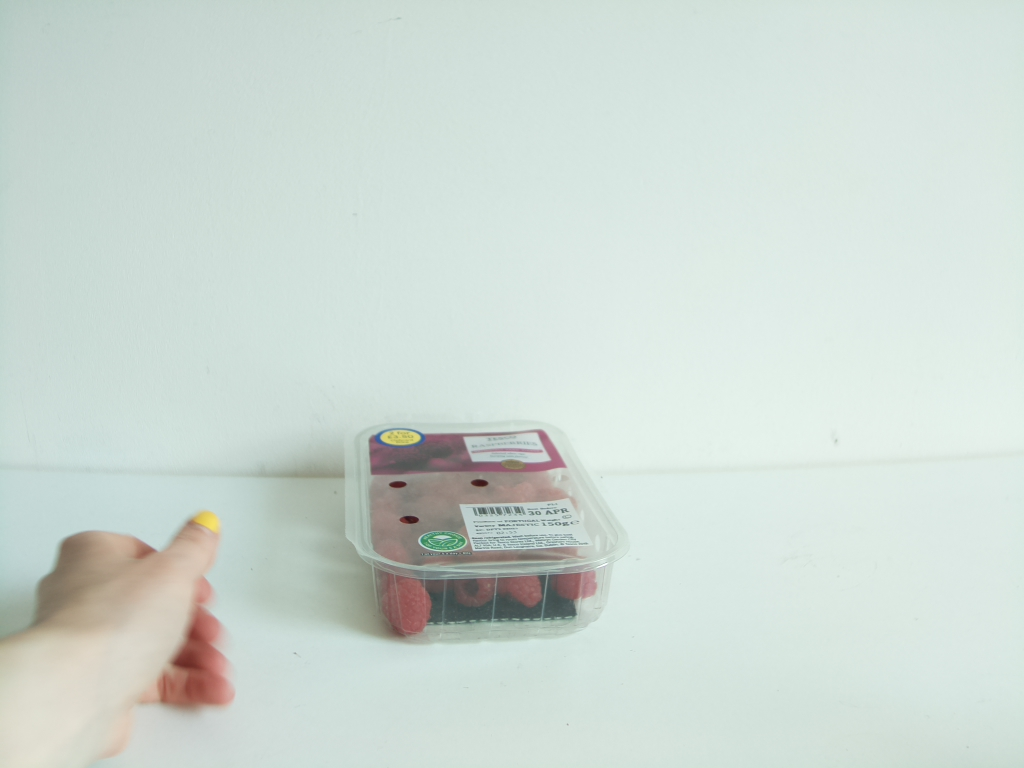soft-fruit: (342, 414, 626, 652)
